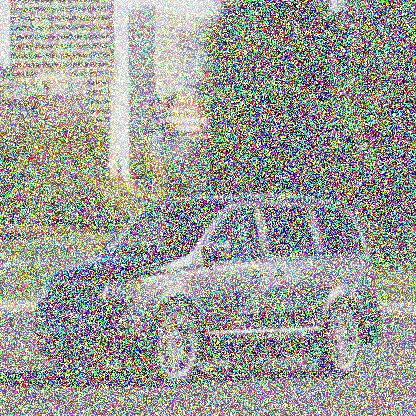Vehicle: (35, 196, 384, 384)
